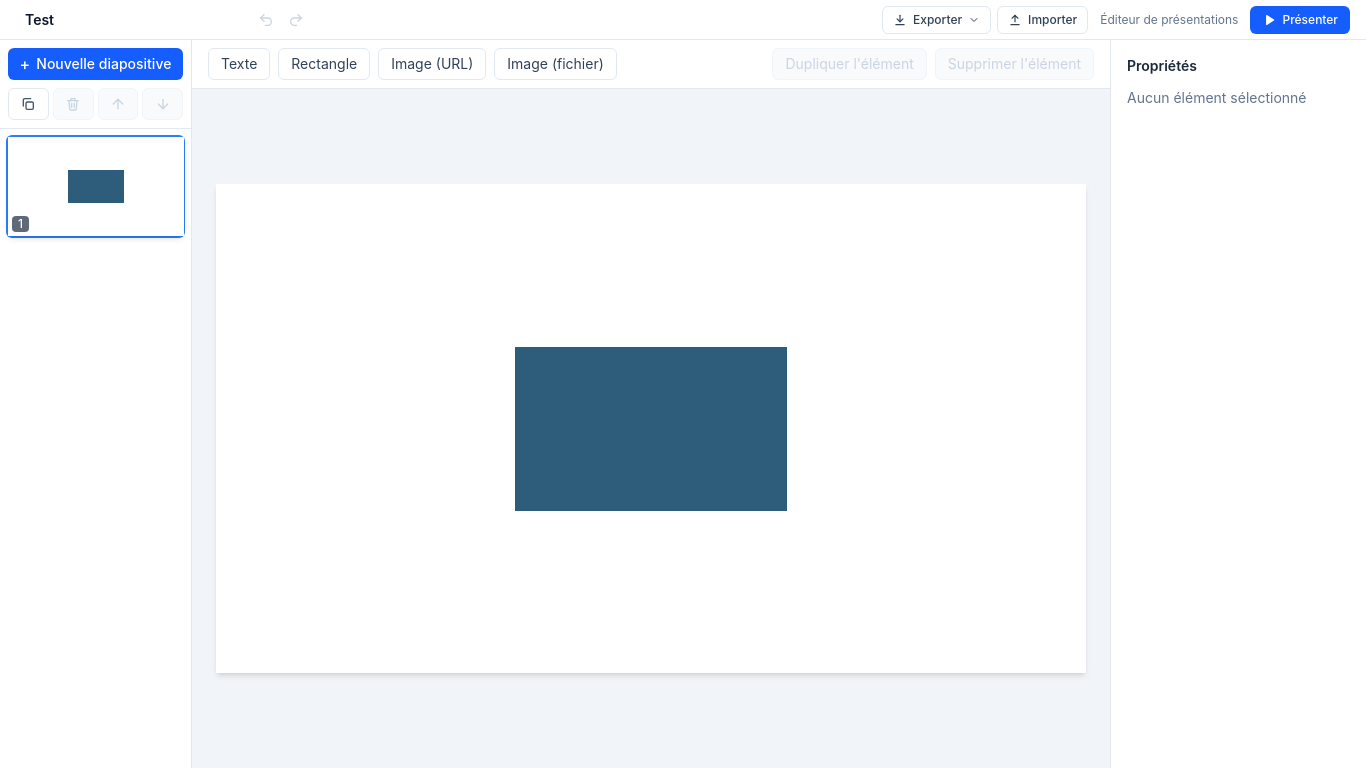
Test: EditorLayout : limite d'éléments par diapositive › réactive les ajouts dès qu'un élément est supprimé
This screenshot has width=1366, height=768.
Click the button "Rectangle" at (324, 64), box [278,48,370,80]
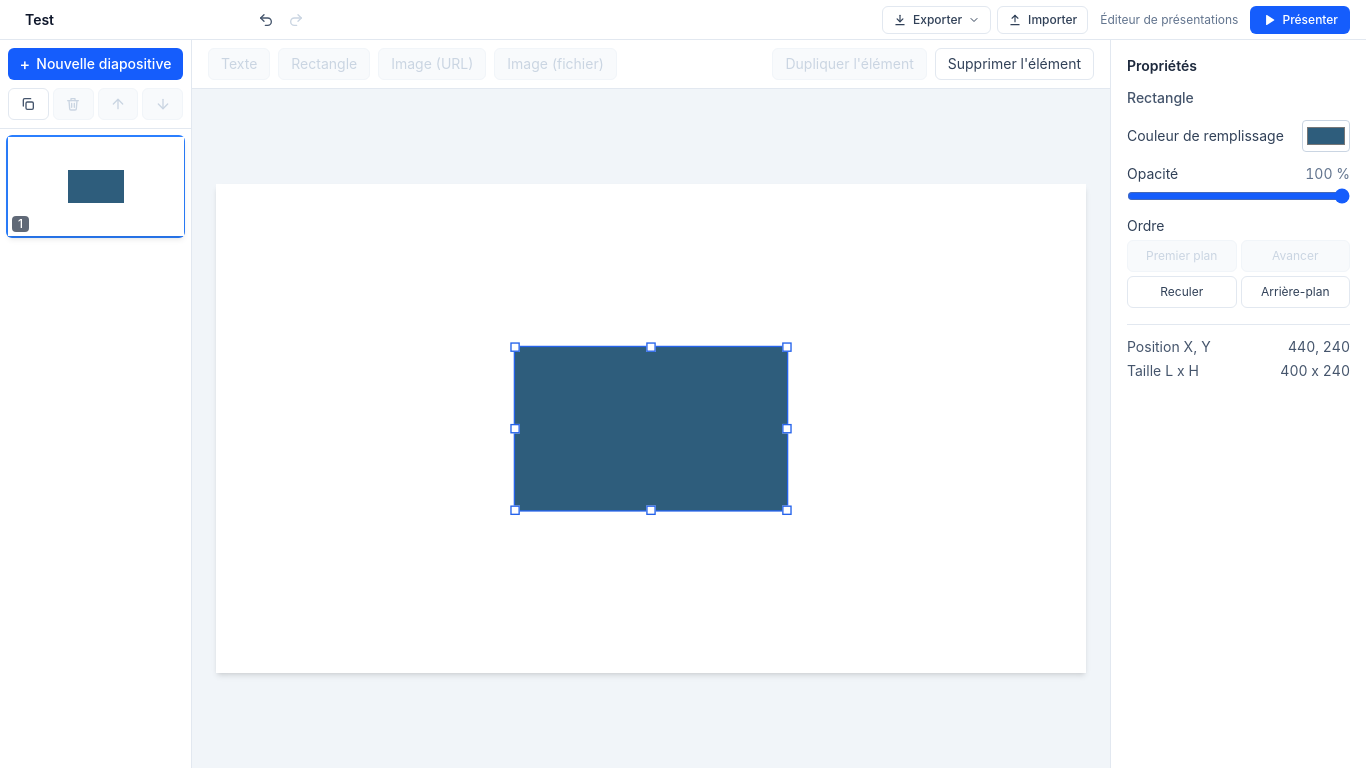
Check: the button "Texte" is disabled, box [208,48,270,80]
Click the button "Supprimer l'élément" at (1014, 64), box [935,48,1094,80]
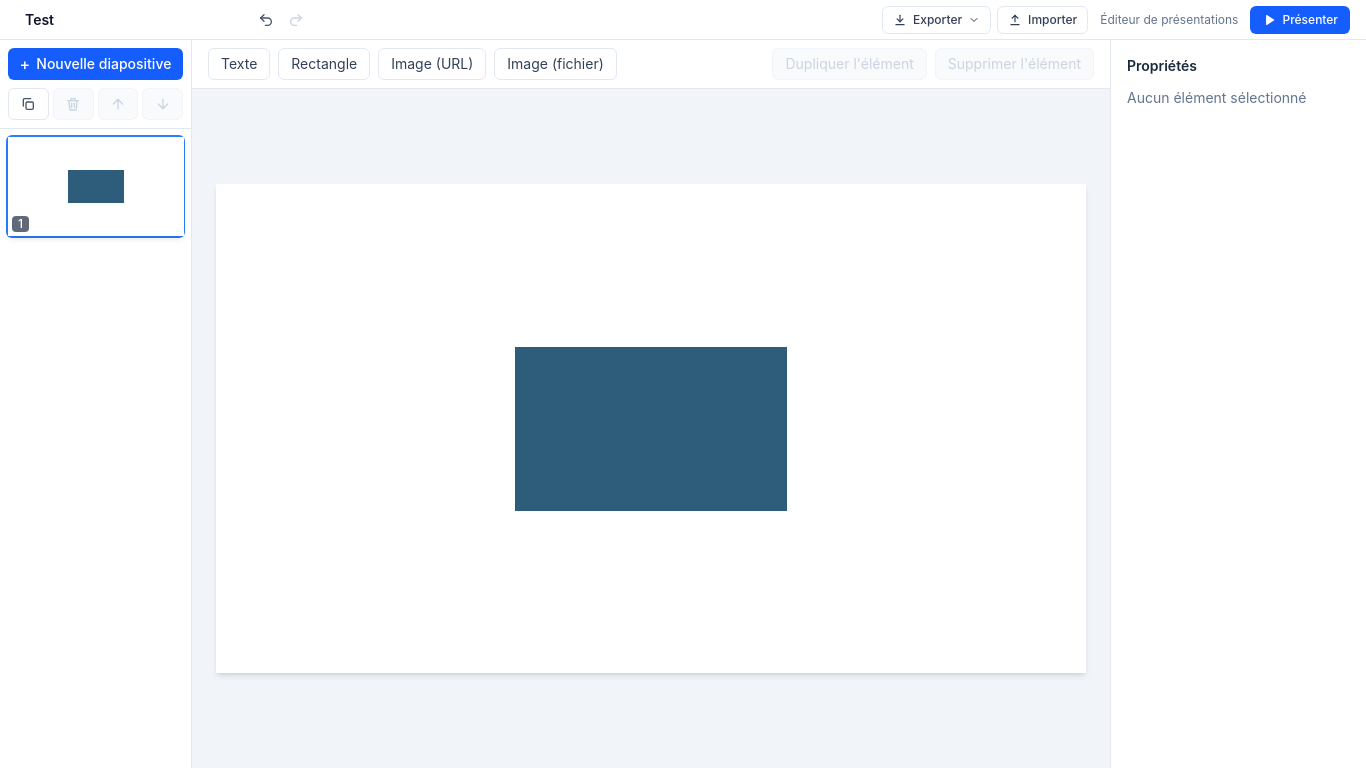
Check: the button "Texte" is enabled, box [208,48,270,80]
Check: the button "Rectangle" is enabled, box [278,48,370,80]
